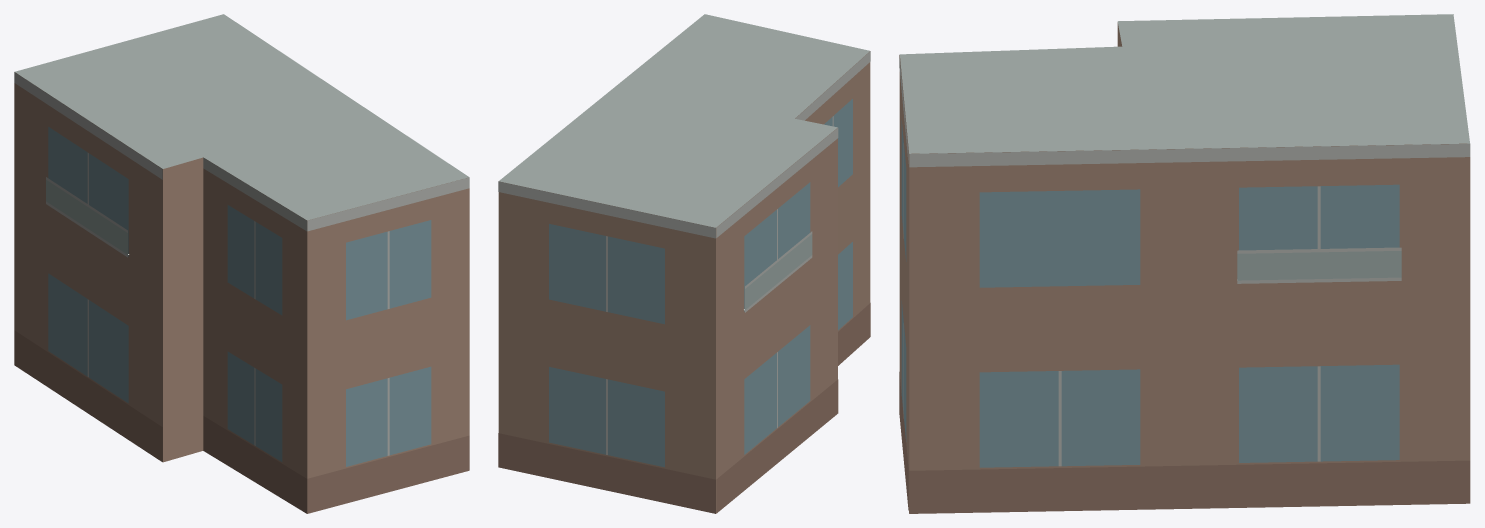
The model's file is survey-upis-32923744.glb.
3 views of the same model, side by side, from view 1: azimuth 30°, elevation 25°; view 2: azimuth 150°, elevation 25°; view 3: azimuth 270°, elevation 25° (orthographic). The views are drawn at different scales.
Parts seen in each view (by area): view 1: survey-upis-32923744.tmp; view 2: survey-upis-32923744.tmp; view 3: survey-upis-32923744.tmp.
Part boxes in pixels (x1,y1,x2,y2): survey-upis-32923744.tmp: (14,14,469,513); survey-upis-32923744.tmp: (498,14,870,513); survey-upis-32923744.tmp: (899,14,1470,513).
Bounding box in the file's own units: 5.42 × 6.5 × 9.35.
